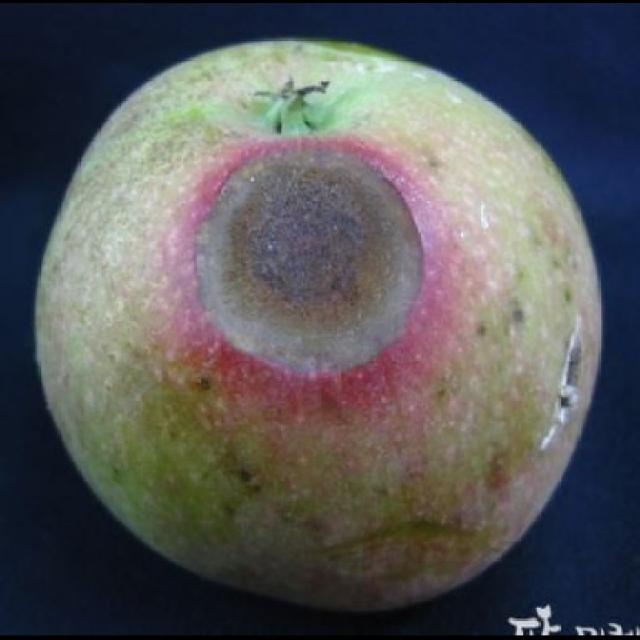Rotten Apple: (31, 34, 604, 606)
